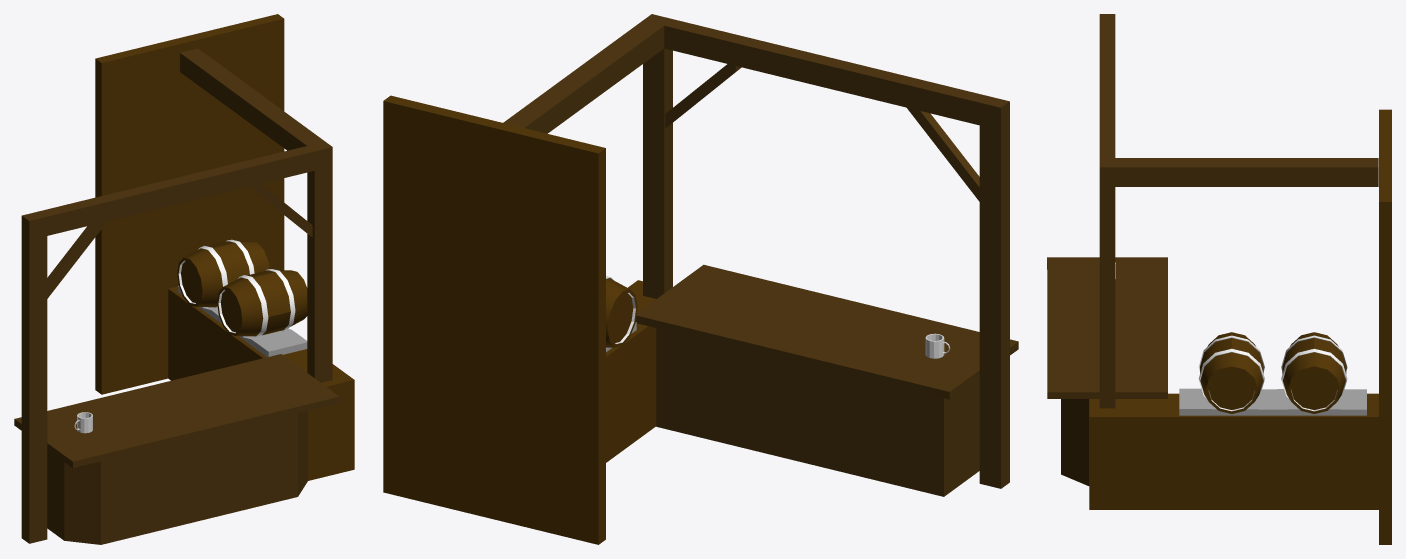
Rendered from Bar.fbx.
3 renders of one model, left to right at view 1: azimuth 30°, elevation 25°; view 2: azimuth 150°, elevation 25°; view 3: azimuth 270°, elevation 25°, orthographic. The views are drawn at different scales.
Visible parts, largest first — view 1: pCube7, pCube2, pCube9, Barrel:Barrel, Barrel1, pCube8, pCube5; view 2: pCube7, pCube2, pCube9, Barrel:Barrel, pCube5; view 3: pCube7, pCube2, pCube9, Barrel1, Barrel:Barrel, pCube8.
Part boxes in pixels (x1,y1,x2,y2): pCube7: [95, 14, 354, 480]; pCube2: [14, 354, 339, 544]; pCube9: [21, 48, 332, 543]; Barrel:Barrel: [217, 269, 307, 337]; Barrel1: [177, 239, 269, 308]; pCube8: [178, 286, 307, 357]; pCube5: [47, 221, 107, 298]; pCube7: [383, 95, 656, 544]; pCube2: [636, 264, 1018, 496]; pCube9: [503, 14, 1009, 488]; Barrel:Barrel: [606, 275, 637, 347]; pCube5: [907, 108, 979, 201]; pCube7: [1089, 109, 1391, 544]; pCube2: [1047, 257, 1167, 485]; pCube9: [1099, 14, 1378, 408]; Barrel1: [1281, 332, 1347, 413]; Barrel:Barrel: [1198, 332, 1264, 413]; pCube8: [1179, 388, 1366, 415].
Bounding box in the file's own units: 5.01 × 4.08 × 3.71.
